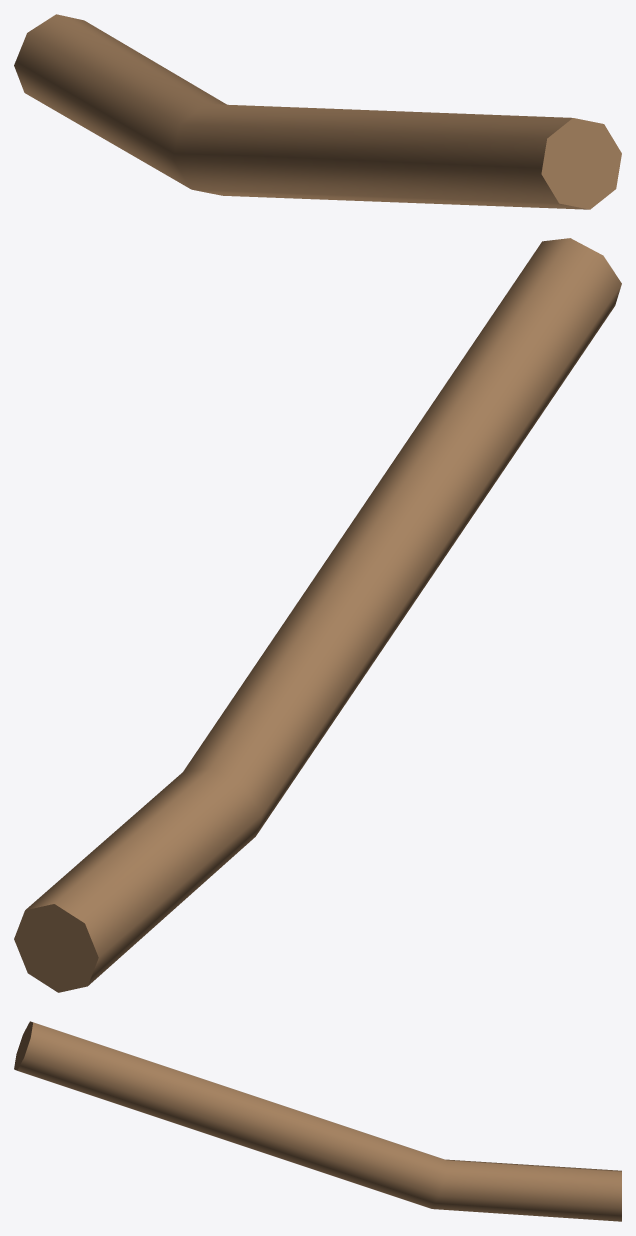
The model's file is SM_PlayerArms.glb.
The picture shows the model from 3 angles, top to bottom: view 1: azimuth 30°, elevation 25°; view 2: azimuth 150°, elevation 25°; view 3: azimuth 270°, elevation 25°; orthographic projection. The views are drawn at different scales.
Visible parts, largest first — view 1: SM_PlayerArms; view 2: SM_PlayerArms; view 3: SM_PlayerArms.
Boxes of the visible parts, x1,y1,x2,y2 form: SM_PlayerArms: (14, 14, 621, 209); SM_PlayerArms: (14, 238, 621, 992); SM_PlayerArms: (14, 1021, 621, 1221).
Size of the model in its own units: 0.1476 by 0.51 by 1.39.
